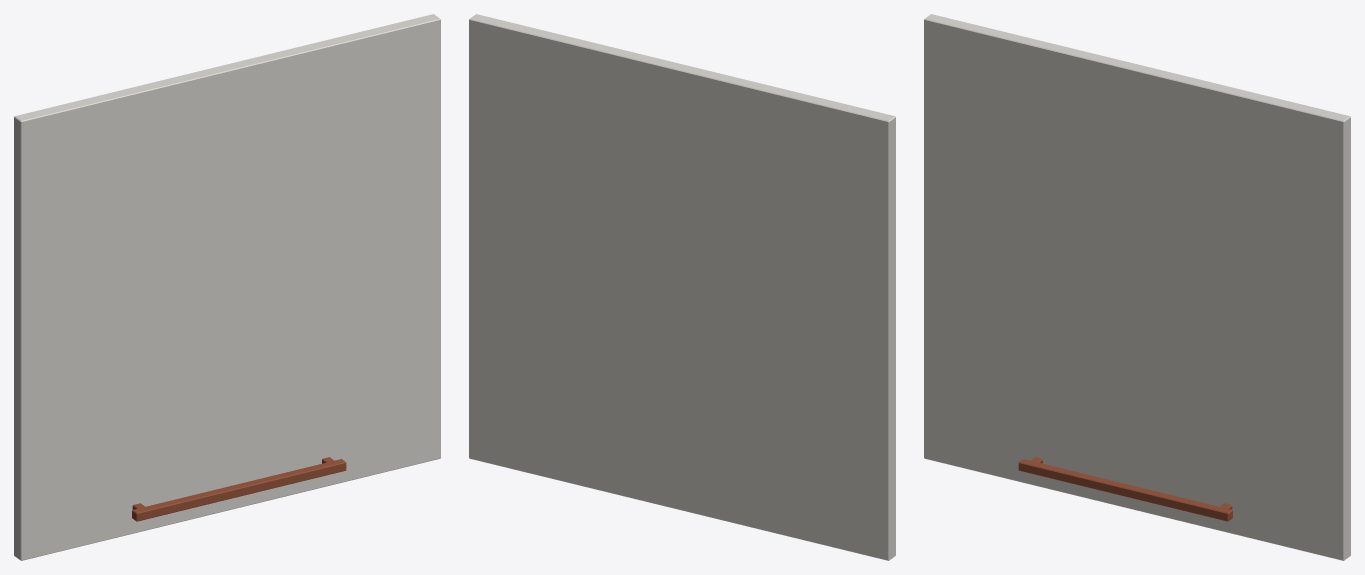
Rendered from l_kitchen_short_return_w2_flap.glb.
The picture shows the model from 3 angles, left to right: view 1: azimuth 30°, elevation 25°; view 2: azimuth 150°, elevation 25°; view 3: azimuth 330°, elevation 25°; orthographic projection.
Parts seen in each view (by area): view 1: l_kitchen_short_return_w2_flap; view 2: l_kitchen_short_return_w2_flap; view 3: l_kitchen_short_return_w2_flap.
Boxes of the visible parts, x1,y1,x2,y2 form: l_kitchen_short_return_w2_flap: [14, 14, 440, 560]; l_kitchen_short_return_w2_flap: [469, 14, 895, 560]; l_kitchen_short_return_w2_flap: [924, 14, 1350, 560].
Bounding box in the file's own units: 0.597 × 0.597 × 0.044.
